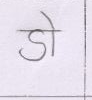o_matra: (46, 11, 58, 56)
